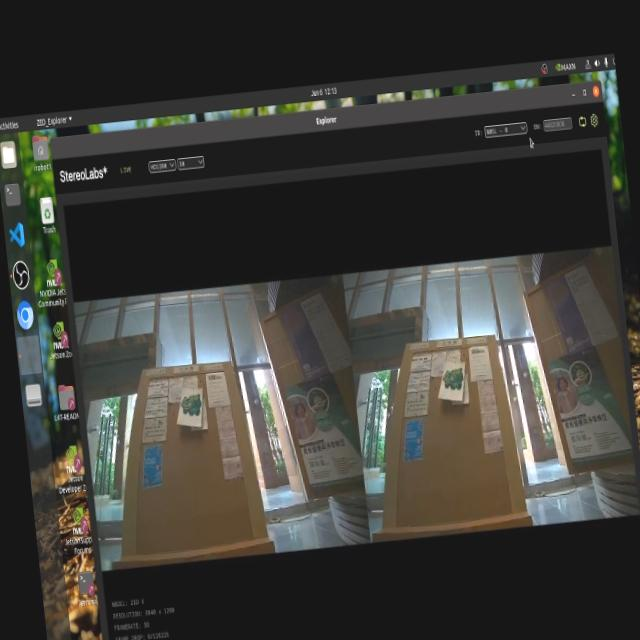green: (182, 394, 206, 419), (444, 362, 461, 394)
